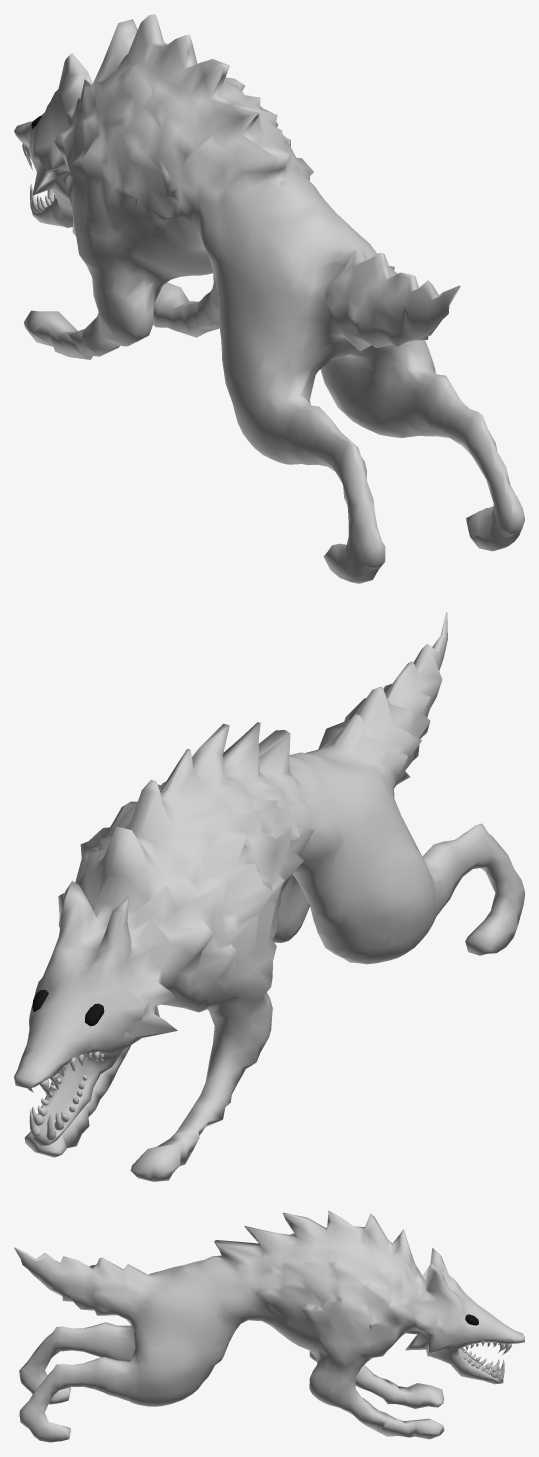
Rendered from волк_пес_пд_монстр.fbx.
The picture shows the model from 3 angles, top to bottom: view 1: azimuth 30°, elevation 25°; view 2: azimuth 150°, elevation 25°; view 3: azimuth 270°, elevation 25°; orthographic projection. The views are drawn at different scales.
Visible parts, largest first — view 1: Sphere.001; view 2: Sphere.001, Sphere.018; view 3: Sphere.001, Sphere.018.
Boxes of the visible parts, x1=… form: Sphere.001: x1=14, y1=14, x2=524, y2=583; Sphere.001: x1=14, y1=612, x2=524, y2=1181; Sphere.018: x1=27, y1=1051, x2=104, y2=1140; Sphere.001: x1=14, y1=1210, x2=524, y2=1442; Sphere.018: x1=463, y1=1341, x2=512, y2=1381.
Bounding box in the file's own units: 452 × 796 × 1746.
